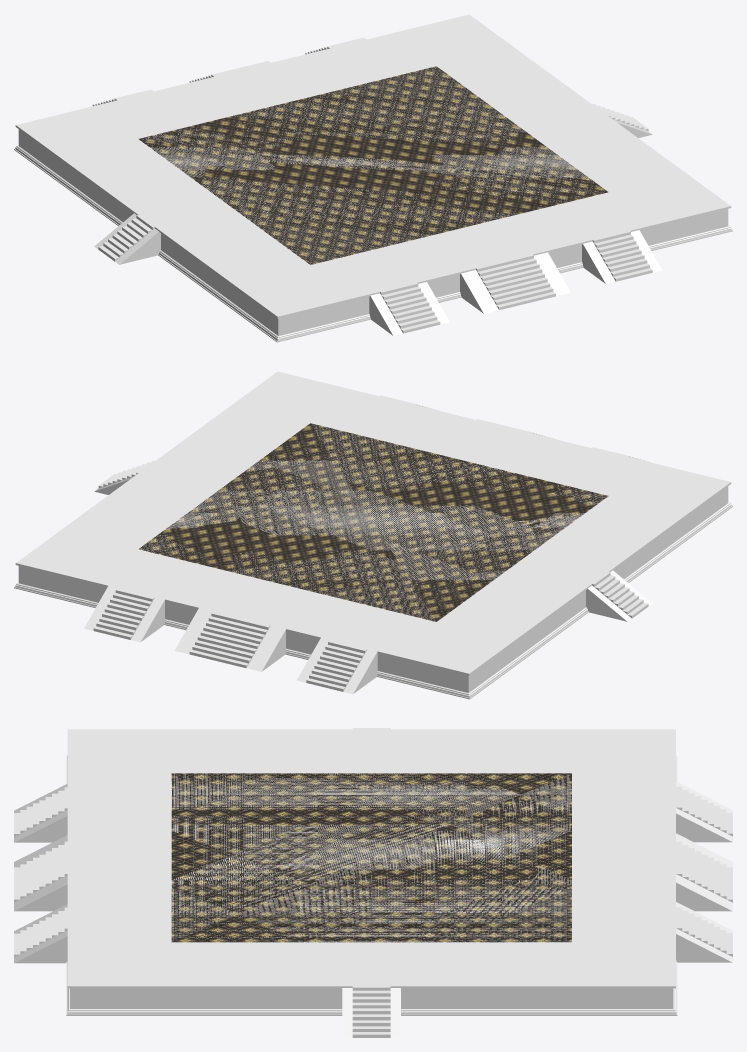
File: forbidden_pedestal_square.dae
3 views of the same model, one above another, from view 1: azimuth 30°, elevation 25°; view 2: azimuth 150°, elevation 25°; view 3: azimuth 270°, elevation 25° (orthographic). The views are drawn at different scales.
Visible parts, largest first — view 1: base-jtd (×3), Component_1, steps_1 (×5); view 2: base-jtd (×3), Component_1, steps_1 (×5); view 3: base-jtd (×3), Component_1, steps_1 (×7).
Boxes of the visible parts, <box> form: base-jtd (×3): <box>14,14,732,342</box>; Component_1: <box>138,66,608,264</box>; steps_1 (×5): <box>94,104,662,335</box>; base-jtd (×3): <box>14,371,732,699</box>; Component_1: <box>138,423,608,621</box>; steps_1 (×5): <box>84,461,652,694</box>; base-jtd (×3): <box>66,729,677,1015</box>; Component_1: <box>171,773,571,942</box>; steps_1 (×7): <box>14,781,732,1037</box>.
Bounding box in the file's own units: 888 × 892 × 39.69.
Materials: 3 (1 with a texture image).
